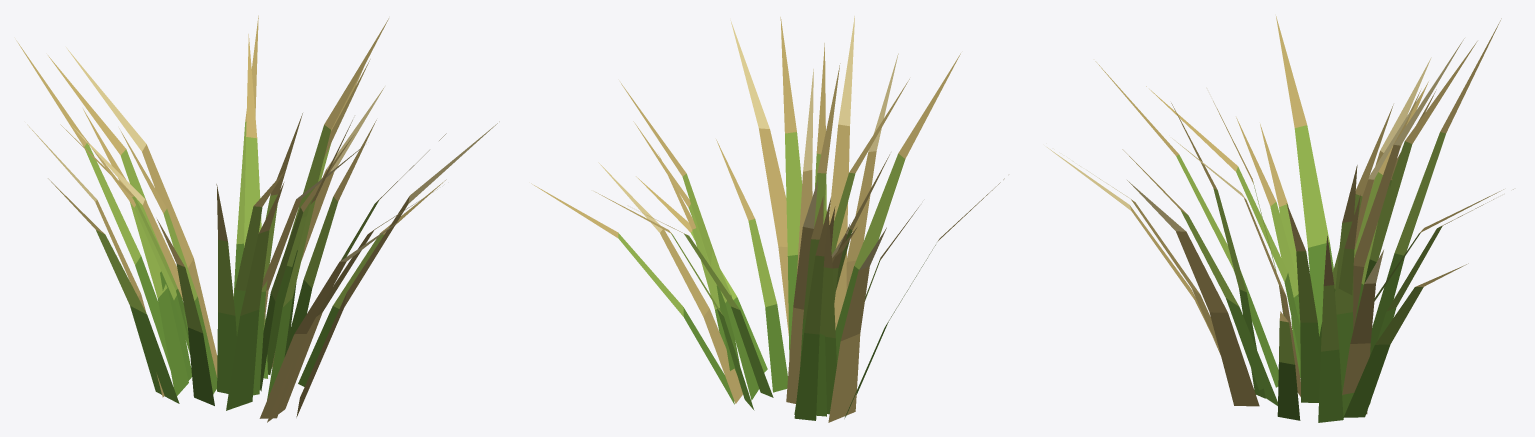
File: G09_DryTippedClump.glb
3 renders of one model, left to right at view 1: azimuth 30°, elevation 25°; view 2: azimuth 150°, elevation 25°; view 3: azimuth 270°, elevation 25°, orthographic. The views are drawn at different scales.
Visible parts, largest first — view 1: G09_DryTippedClump; view 2: G09_DryTippedClump; view 3: G09_DryTippedClump.
Boxes of the visible parts, x1,y1,x2,y2 form: G09_DryTippedClump: (16,15,499,422); G09_DryTippedClump: (531,16,1004,422); G09_DryTippedClump: (1047,16,1513,422).
Bounding box in the file's own units: 1.95 × 1.42 × 1.92.
